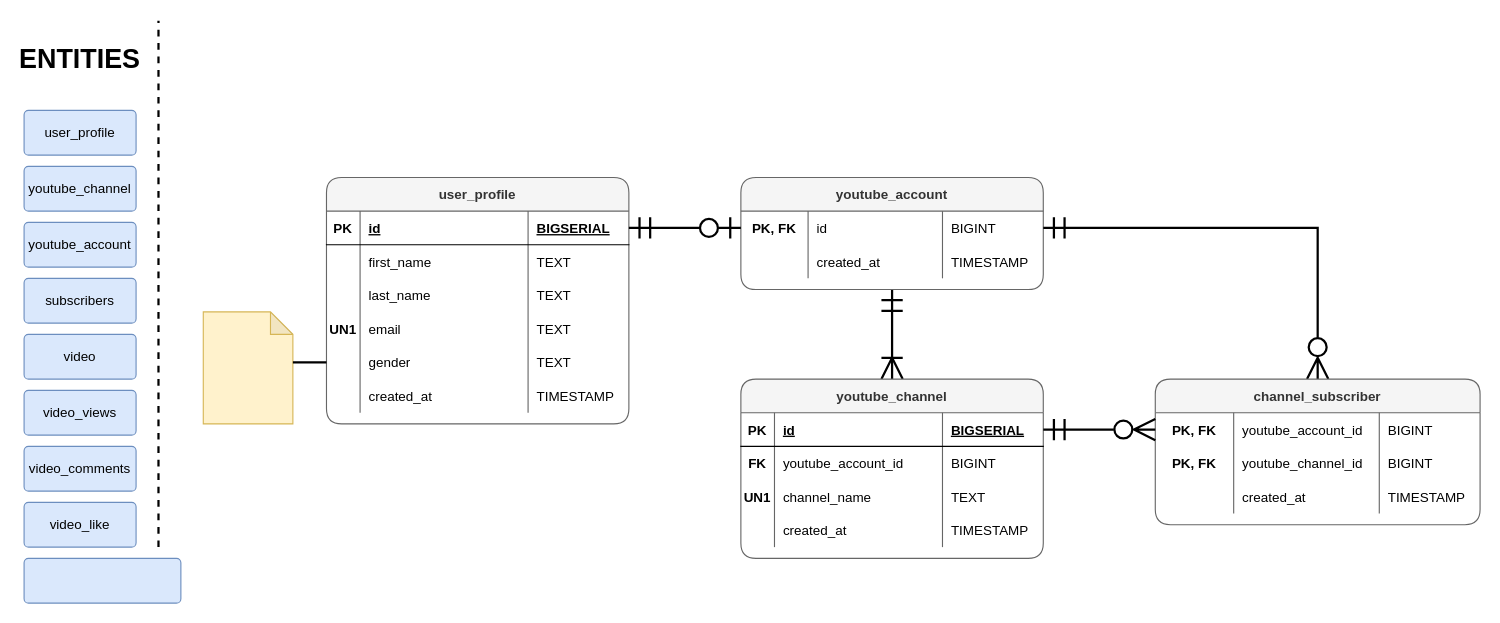
Image size: 1500x623. Some labels were removed from this diagram. Each missing label, with the centre of its shape:
"MALE, FEMALE" goes at (247,367).
"video_comment_like" goes at (102,580).
